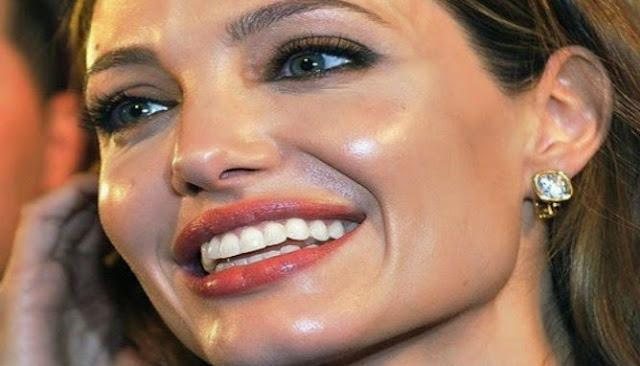Oily-Skin: (144, 259, 191, 327), (344, 112, 410, 160), (196, 320, 243, 366), (99, 176, 135, 216), (288, 315, 326, 336), (295, 274, 317, 296)
